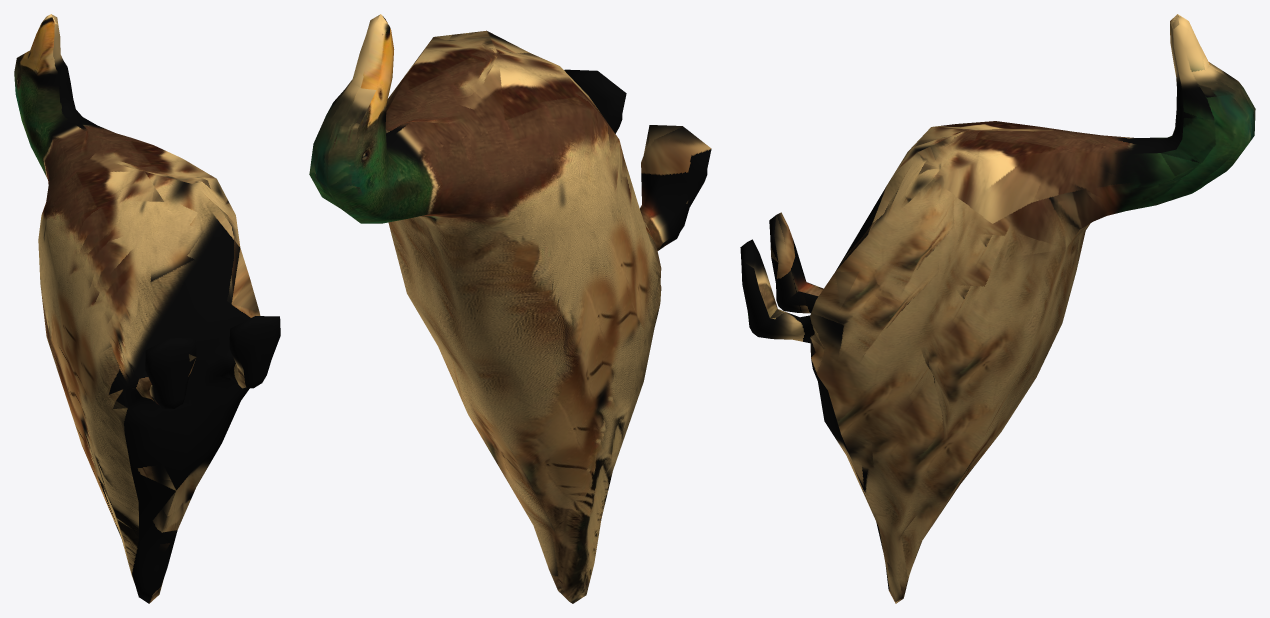
Rendered from duckling.fbx.
3 views of the same model, side by side, from view 1: azimuth 30°, elevation 25°; view 2: azimuth 150°, elevation 25°; view 3: azimuth 270°, elevation 25° (orthographic). The views are drawn at different scales.
Visible parts, largest first — view 1: Duckling; view 2: Duckling; view 3: Duckling.
Boxes of the visible parts, bbox=[...] form: Duckling: bbox=[14, 14, 280, 603]; Duckling: bbox=[309, 14, 711, 603]; Duckling: bbox=[740, 14, 1255, 603].
Bounding box in the file's own units: 6.45 × 20.3 × 15.77.
